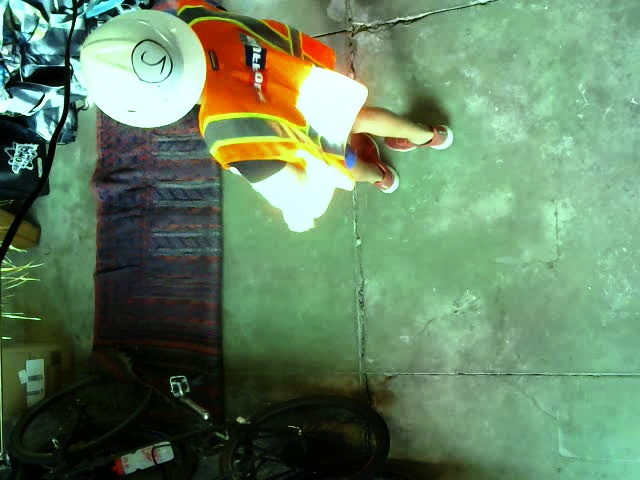two: (130, 39, 171, 84)
